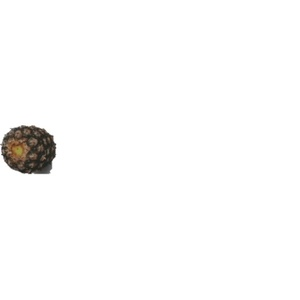abacaxi: (1, 121, 58, 178)
